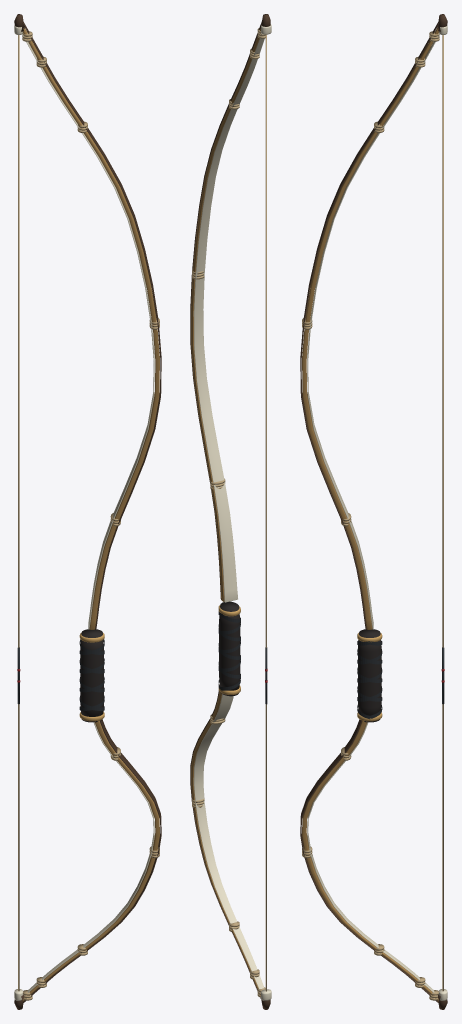
Rendered from weapon_japan_yumi.glb.
The picture shows the model from 3 angles, left to right: view 1: azimuth 90°, elevation 25°; view 2: azimuth 210°, elevation 25°; view 3: azimuth 270°, elevation 25°; orthographic projection.
Parts seen in each view (by area): view 1: Authored_japan_yumi; view 2: Authored_japan_yumi; view 3: Authored_japan_yumi.
Boxes of the visible parts, x1,y1,x2,y2 form: Authored_japan_yumi: (14,14,161,1009); Authored_japan_yumi: (190,14,271,1009); Authored_japan_yumi: (300,14,447,1009).
Size of the model in its own units: 0.038 by 1.94 by 0.261.
